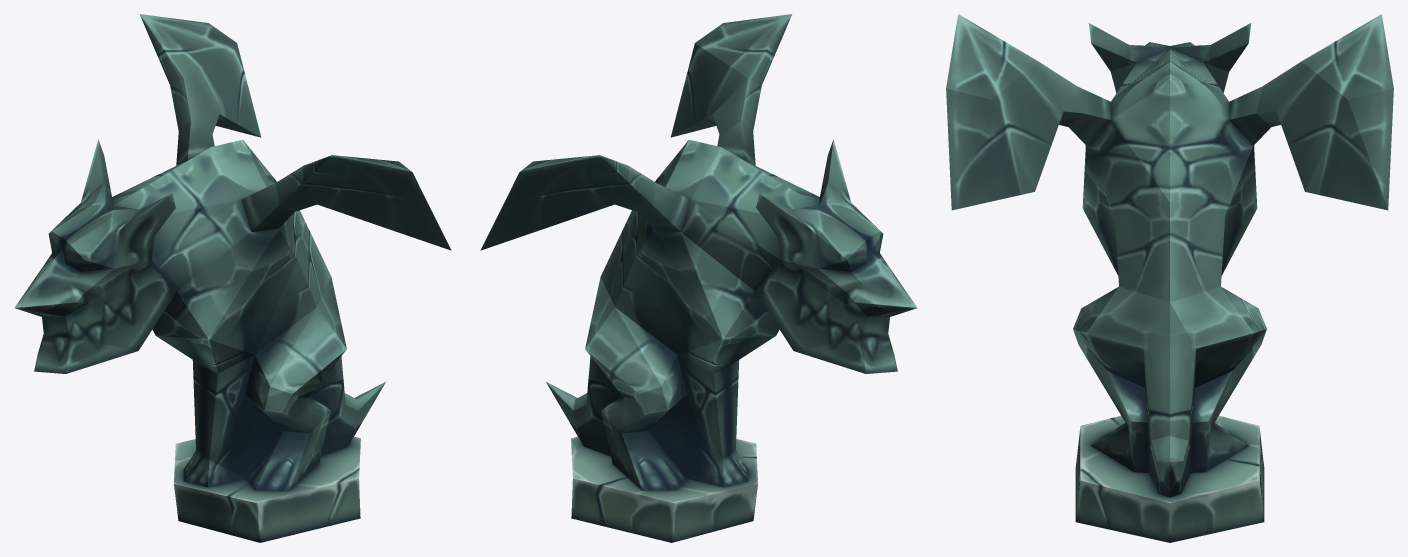
File: gargoyle.fbx
3 views of the same model, side by side, from view 1: azimuth 30°, elevation 25°; view 2: azimuth 150°, elevation 25°; view 3: azimuth 270°, elevation 25° (orthographic). The views are drawn at different scales.
Parts seen in each view (by area): view 1: gargoyle; view 2: gargoyle; view 3: gargoyle.
Boxes of the visible parts, x1,y1,x2,y2 form: gargoyle: [14, 14, 451, 542]; gargoyle: [480, 14, 917, 542]; gargoyle: [946, 14, 1393, 542].
Size of the model in its own units: 24.01 by 26.06 by 22.78.
